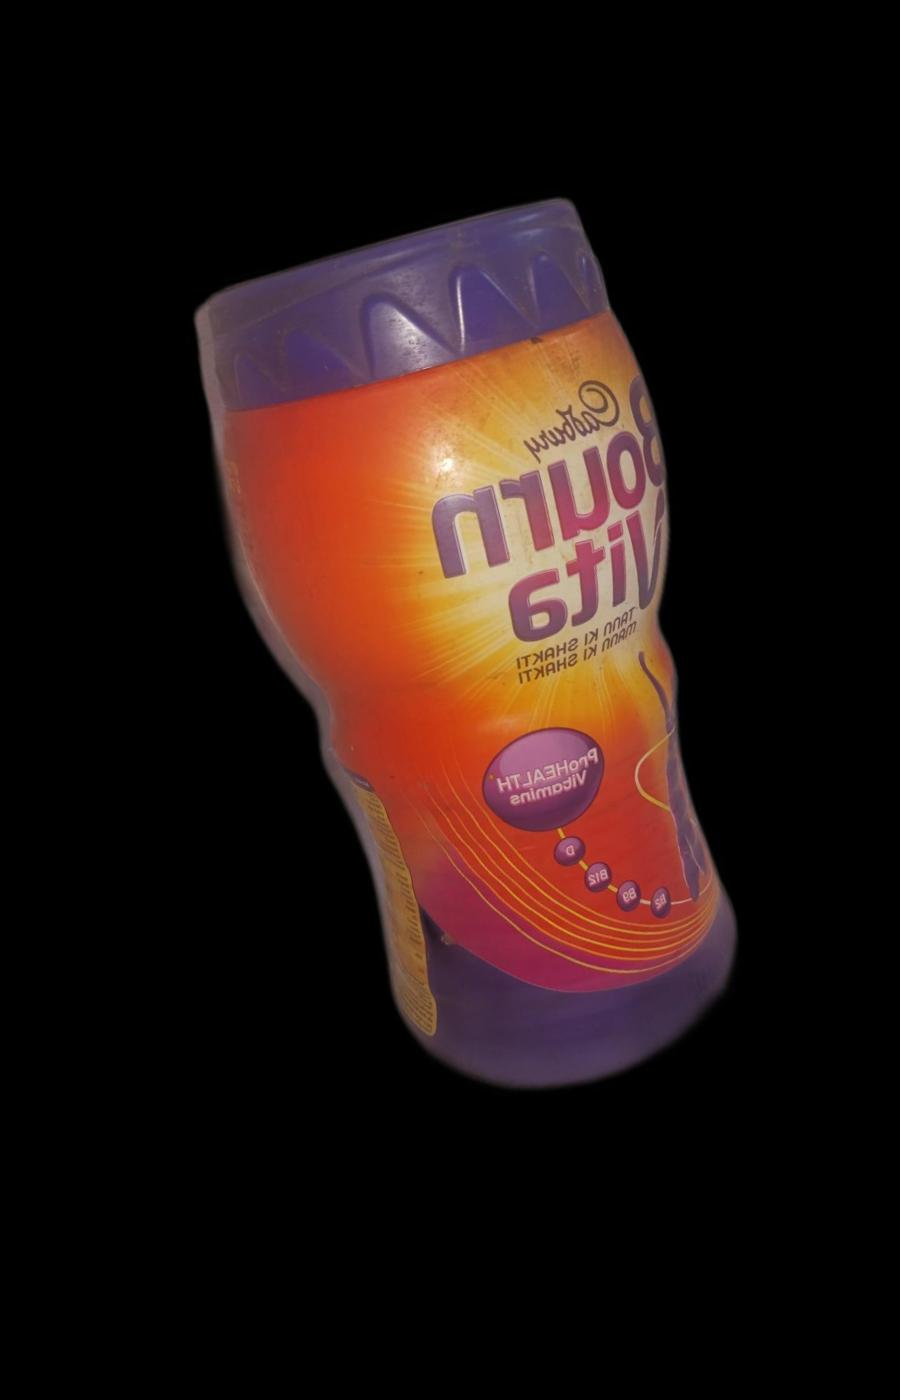Cadbury Bournvita Chocolate Health Drink-1kg-: (156, 164, 826, 1136)
